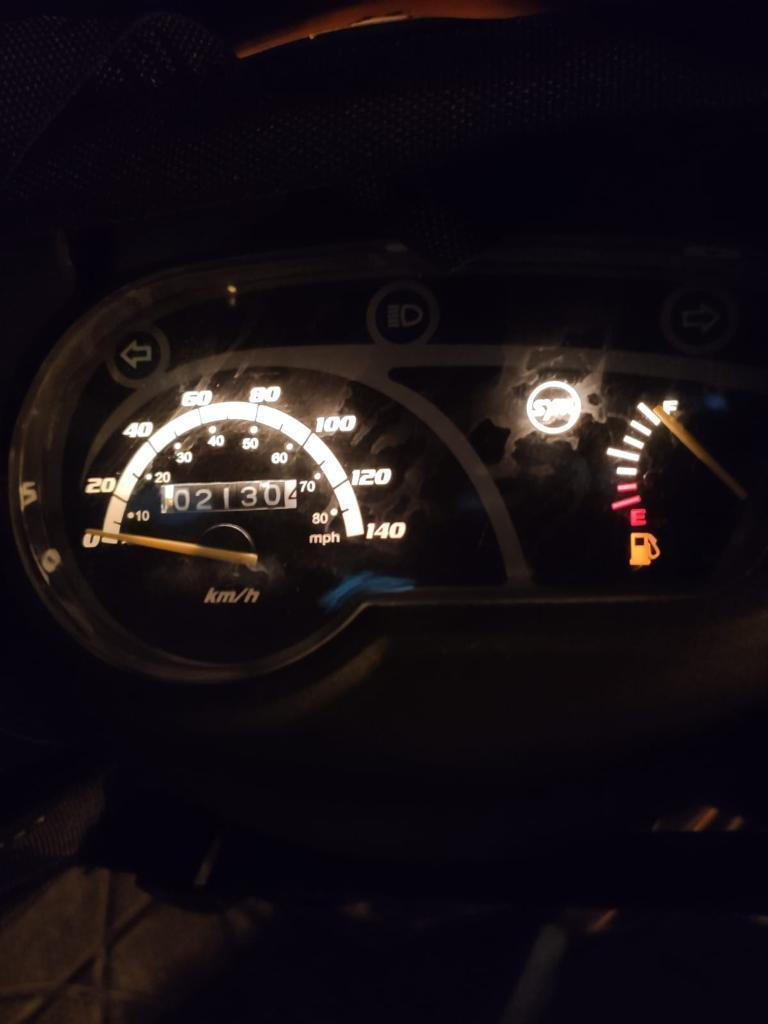0: (261, 484, 281, 507), (172, 487, 191, 511)
1: (220, 485, 234, 510)
2: (193, 486, 214, 510)
3: (237, 485, 258, 508)
4: (285, 483, 297, 504)
odometer: (159, 478, 298, 515)
